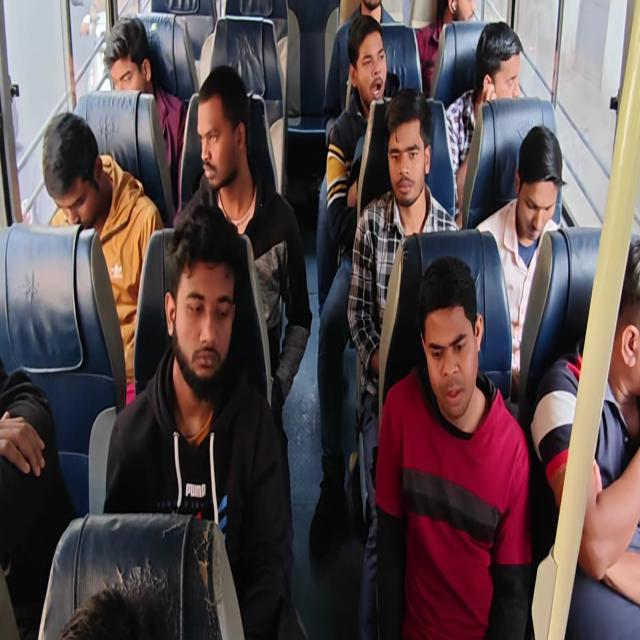person: (164, 221, 247, 387), (40, 114, 119, 244), (420, 276, 484, 413), (190, 79, 250, 193), (514, 119, 565, 247), (601, 257, 640, 415), (385, 112, 432, 209), (476, 28, 526, 116), (109, 17, 160, 103), (352, 30, 390, 106), (348, 0, 396, 41), (432, 0, 476, 37)
